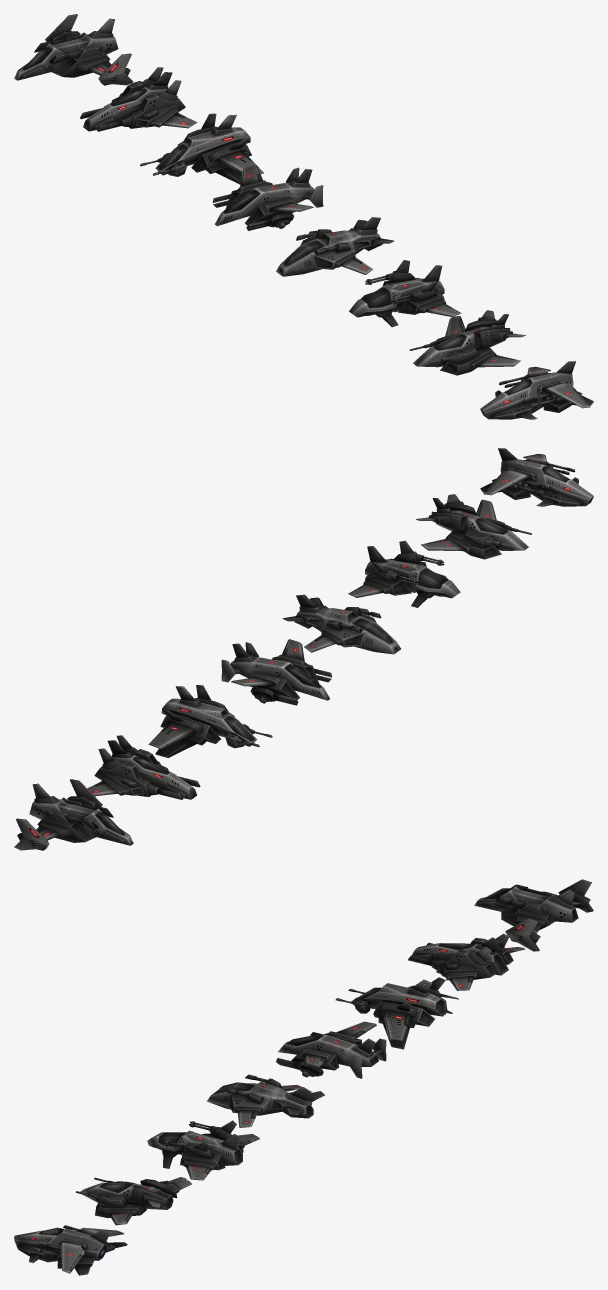
Rendered from 01Ship.fbx.
The picture shows the model from 3 angles, top to bottom: view 1: azimuth 30°, elevation 25°; view 2: azimuth 150°, elevation 25°; view 3: azimuth 330°, elevation 25°; orthographic projection.
Parts seen in each view (by area): view 1: small_space_ship_8_001, small_space_ship_5_004, small_space_ship_6_002, small_space_ship_7_001, small_space_ship_2_004, small_space_ship_1_003, small_space_ship_4_004, small_space_ship_3_004; view 2: small_space_ship_8_001, small_space_ship_6_002, small_space_ship_5_004, small_space_ship_2_004, small_space_ship_7_001, small_space_ship_1_003, small_space_ship_4_004, small_space_ship_3_004; view 3: small_space_ship_8_001, small_space_ship_6_002, small_space_ship_5_004, small_space_ship_3_004, small_space_ship_7_001, small_space_ship_4_004, small_space_ship_1_003, small_space_ship_2_004.
Boxes of the visible parts, <box> form: small_space_ship_8_001: <box>14,14,133,85</box>; small_space_ship_5_004: <box>212,164,323,230</box>; small_space_ship_6_002: <box>140,113,263,184</box>; small_space_ship_7_001: <box>80,67,197,131</box>; small_space_ship_2_004: <box>409,310,525,375</box>; small_space_ship_1_003: <box>480,361,593,419</box>; small_space_ship_4_004: <box>276,217,393,276</box>; small_space_ship_3_004: <box>349,260,461,327</box>; small_space_ship_8_001: <box>14,779,133,850</box>; small_space_ship_6_002: <box>148,685,272,757</box>; small_space_ship_5_004: <box>221,639,332,705</box>; small_space_ship_2_004: <box>416,494,531,559</box>; small_space_ship_7_001: <box>87,735,200,799</box>; small_space_ship_1_003: <box>480,448,593,506</box>; small_space_ship_4_004: <box>282,594,400,654</box>; small_space_ship_3_004: <box>348,540,460,607</box>; small_space_ship_8_001: <box>474,879,593,951</box>; small_space_ship_6_002: <box>335,977,458,1049</box>; small_space_ship_5_004: <box>276,1021,386,1078</box>; small_space_ship_3_004: <box>147,1120,259,1180</box>; small_space_ship_7_001: <box>408,933,525,990</box>; small_space_ship_4_004: <box>206,1074,324,1127</box>; small_space_ship_1_003: <box>14,1225,127,1275</box>; small_space_ship_2_004: <box>76,1177,191,1225</box>.
Size of the model in its own units: 26.79 by 12.98 by 235.
